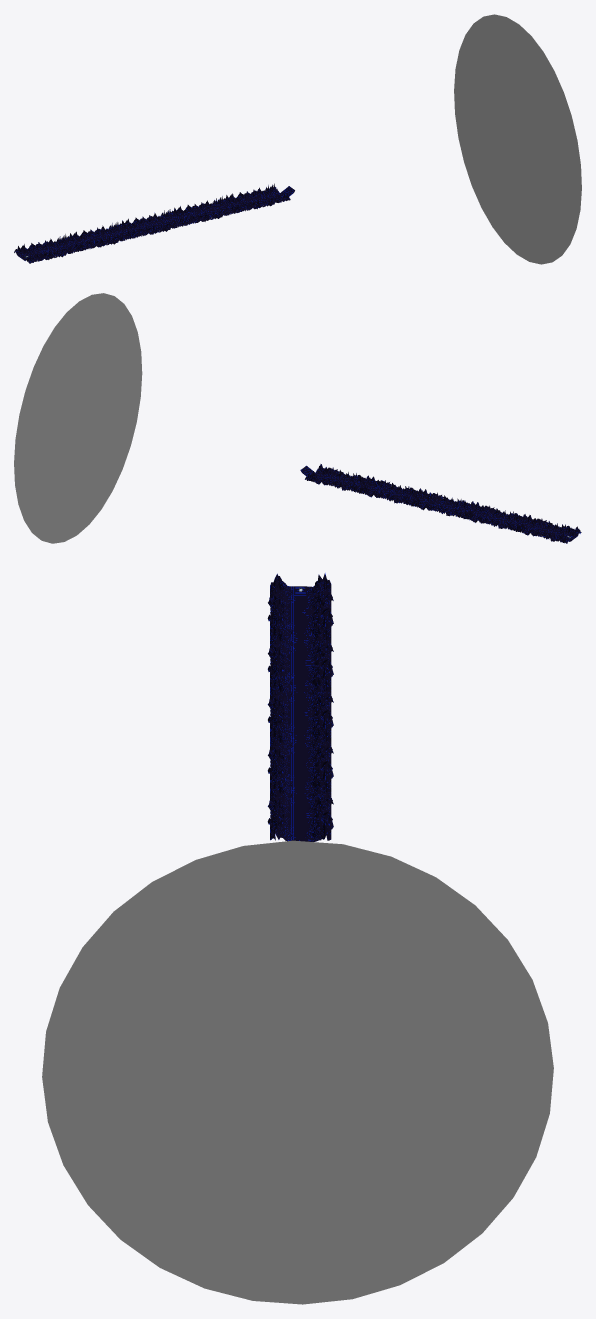
The picture shows the model from 3 angles, top to bottom: view 1: azimuth 30°, elevation 25°; view 2: azimuth 150°, elevation 25°; view 3: azimuth 270°, elevation 25°; orthographic projection. The views are drawn at different scales.
Visible parts, largest first — view 1: Circle.001, Plane; view 2: Circle.001, Plane; view 3: Circle.001, Plane.
Part boxes in pixels (x1,y1,x2,y2): Circle.001: [454, 14, 581, 264]; Plane: [14, 183, 290, 263]; Circle.001: [14, 293, 142, 543]; Plane: [305, 464, 581, 543]; Circle.001: [42, 840, 553, 1304]; Plane: [267, 573, 333, 841].
Size of the model in its own units: 299 by 134 by 134.
12 materials, 1 textured.
